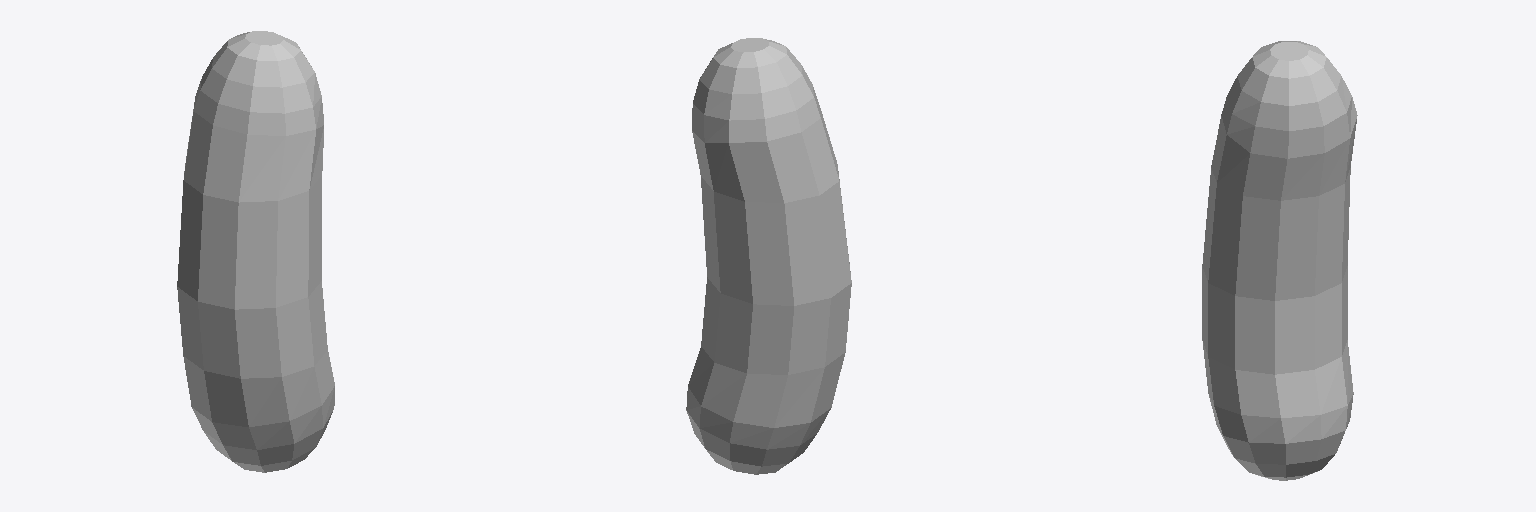
The model's file is cucumber.obj.
3 renders of one model, left to right at view 1: azimuth 30°, elevation 25°; view 2: azimuth 150°, elevation 25°; view 3: azimuth 270°, elevation 25°, orthographic.
Visible parts, largest first — view 1: pSphere1; view 2: pSphere1; view 3: pSphere1.
Part boxes in pixels (x1,y1,x2,y2): pSphere1: (177, 31, 334, 472); pSphere1: (686, 38, 851, 474); pSphere1: (1202, 41, 1357, 480).
Size of the model in its own units: 3.07 by 8.8 by 2.91.